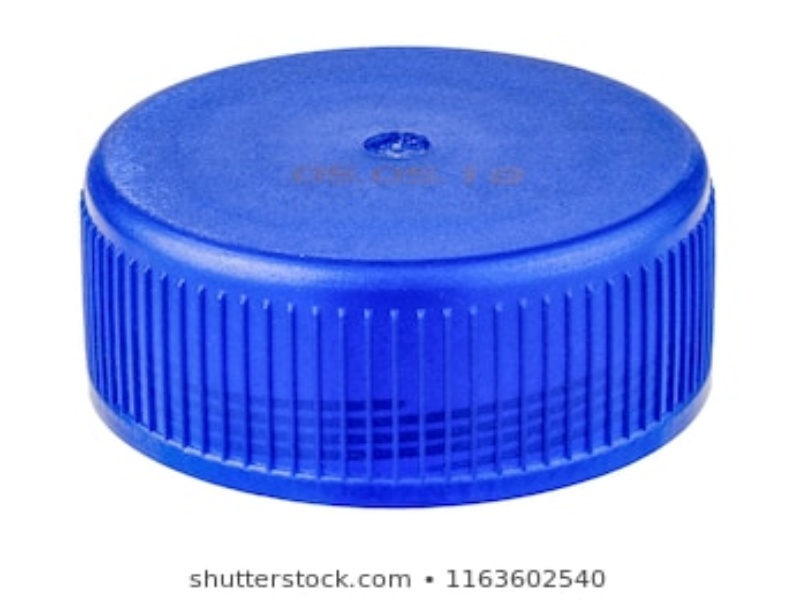bottle-cap: (70, 44, 724, 514)
